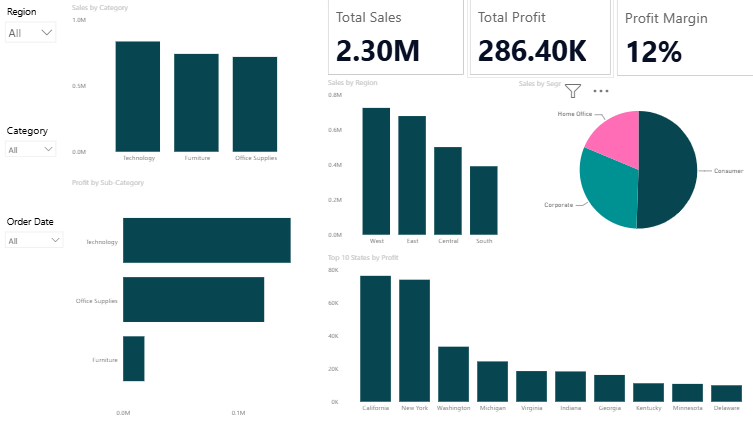

What the dashboard file says about the page in this screenshot:
{"tool":"powerbi","page":{"name":"Page 1","canvas":[1280,720],"ordinal":0},"visuals":[{"type":"columnChart","title":"Sales by Category","fields":{"Category":["Sample - Superstore.Category"],"Y":["Sum(Sample - Superstore.Sales)"]},"box":[117.6,11.8,398.1,280.5],"z":0},{"type":"barChart","title":"Profit by Sub-Category","fields":{"Category":["Sample - Superstore.Category","Sample - Superstore.Sub-Category"],"Y":["Sum(Sample - Superstore.Profit)"]},"box":[117.6,305.7,398.1,414.9],"z":1},{"type":"pieChart","title":"Sales by Segment","fields":{"Category":["Sample - Superstore.Segment"],"Y":["Sum(Sample - Superstore.Sales)"]},"box":[868.5,139.4,411.5,292.3],"z":2},{"type":"columnChart","title":"Sales by Region","fields":{"Category":["Sample - Superstore.Region"],"Y":["Sum(Sample - Superstore.Sales)"]},"box":[547.6,137.7,320.8,294],"z":3},{"type":"columnChart","title":"Top 10 States by Profit","fields":{"Y":["Sum(Sample - Superstore.Profit)"],"Category":["Sample - Superstore.State"]},"box":[547.6,431.7,732.4,280.5],"z":4},{"type":"cardVisual","fields":{"Data":["Sum(Sample - Superstore.Sales)"]},"box":[547.6,1.7,238.5,137.7],"z":5},{"type":"cardVisual","fields":{"Data":["Sum(Sample - Superstore.Profit)"]},"box":[786.1,0,246.9,139.4],"z":6},{"type":"cardVisual","fields":{"Data":["Sample - Superstore.Profit Margin"]},"box":[1033.1,1.7,246.9,139.4],"z":7},{"type":"slicer","fields":{"Values":["Sample - Superstore.Region"]},"box":[0,11.8,105.8,141.1],"z":8},{"type":"slicer","fields":{"Values":["Sample - Superstore.Category"]},"box":[0,210,105.8,149.5],"z":9},{"type":"slicer","fields":{"Values":["Sample - Superstore.Order Date"]},"box":[0,364.5,117.6,188.1],"z":10}]}

Visuals, with their boxes in screenshot pixels (x1, y1, x2, y2), scaled from the page's 1280x720 canvas onto the 753x424 screenshot:
"Sales by Category" columnChart: crop(69, 7, 303, 172)
"Profit by Sub-Category" barChart: crop(69, 180, 303, 423)
"Sales by Segment" pieChart: crop(511, 82, 752, 254)
"Sales by Region" columnChart: crop(322, 81, 511, 254)
"Top 10 States by Profit" columnChart: crop(322, 254, 752, 419)
cardVisual - Sum(Sample - Superstore.Sales): crop(322, 1, 462, 82)
cardVisual - Sum(Sample - Superstore.Profit): crop(462, 0, 608, 82)
cardVisual - Sample - Superstore.Profit Margin: crop(608, 1, 752, 83)
slicer - Sample - Superstore.Region: crop(0, 7, 62, 90)
slicer - Sample - Superstore.Category: crop(0, 124, 62, 212)
slicer - Sample - Superstore.Order Date: crop(0, 215, 69, 325)
